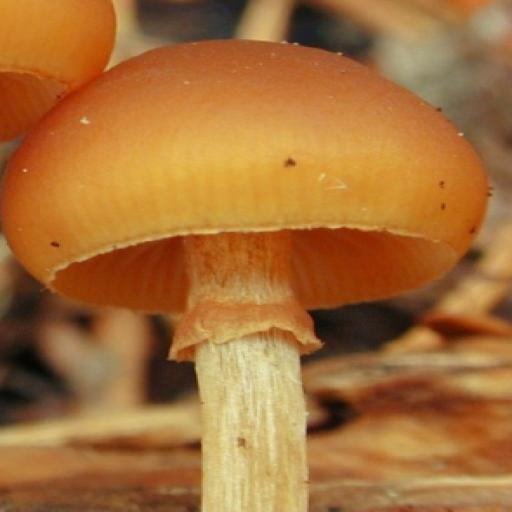mushroom: (10, 30, 495, 448)
